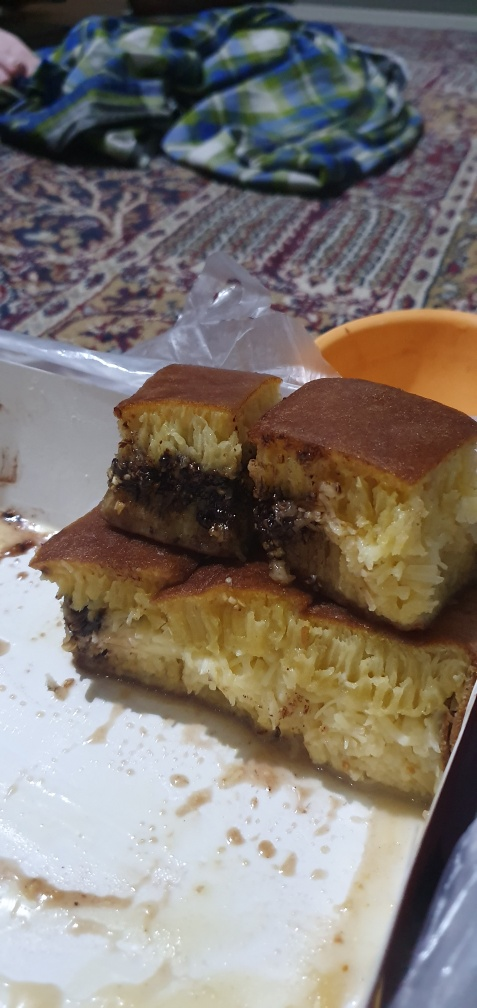martabak manis: (265, 369, 477, 631), (109, 340, 253, 568), (23, 507, 179, 716), (289, 624, 477, 792), (153, 573, 300, 775)
